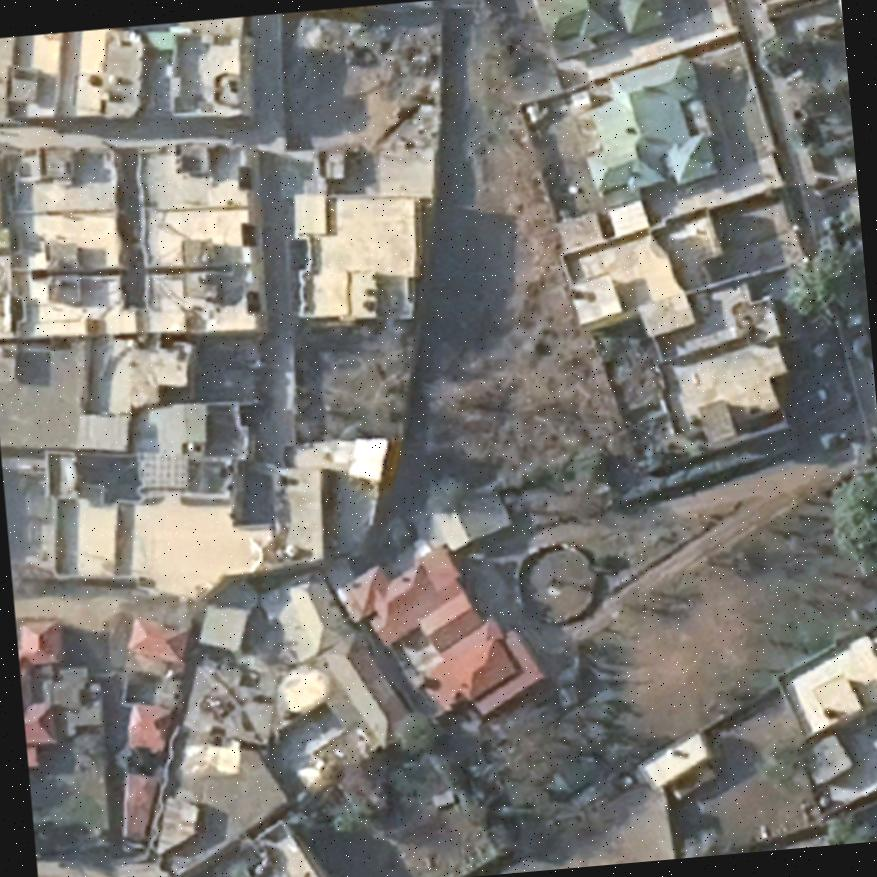Solarpanel: (134, 446, 193, 494)
